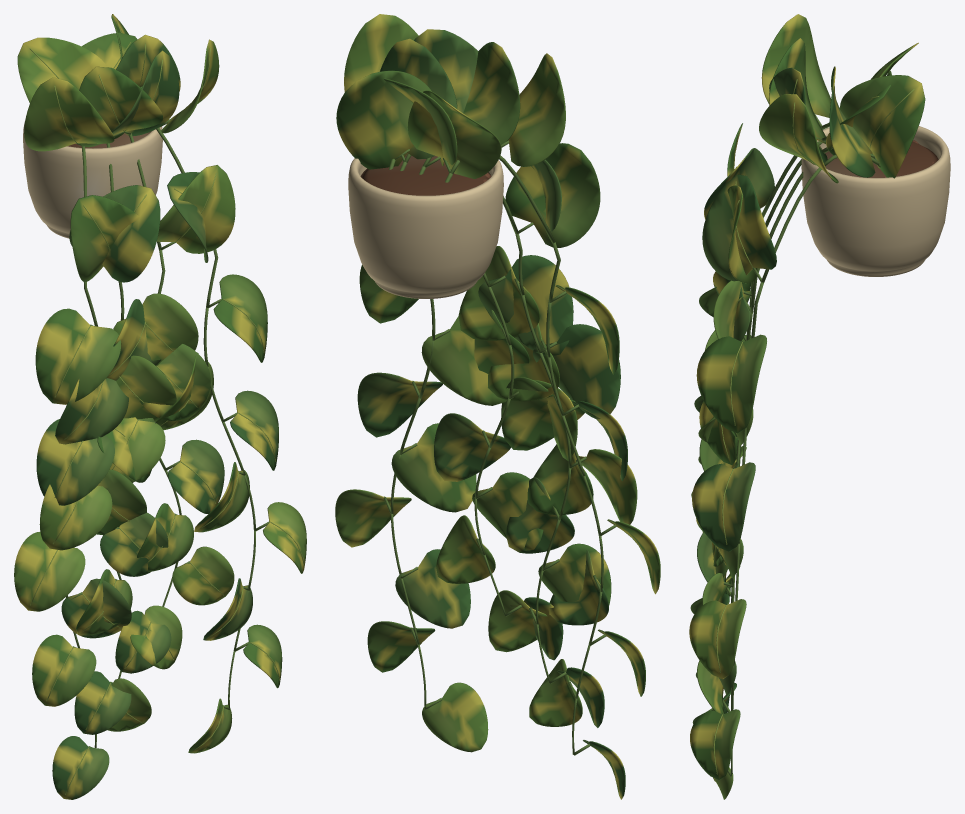
File: pothos.glb
The picture shows the model from 3 angles, left to right: view 1: azimuth 30°, elevation 25°; view 2: azimuth 150°, elevation 25°; view 3: azimuth 270°, elevation 25°; orthographic projection. The views are drawn at different scales.
Parts seen in each view (by area): view 1: pot, vine0_leaf03, vine0_leaf01, vine0_leaf05, vine2_leaf02, vine0_leaf07, vine0_leaf02, vine1_leaf02, vine0_leaf09, vine2_leaf01, vine1_leaf00, vine1_leaf06 (+32 smaller); view 2: pot, vine3_leaf00, vine1_leaf02, vine2_leaf03, vine0_leaf01, vine1_leaf04, vine1_leaf00, vine2_leaf01, vine3_leaf06, vine3_leaf04, vine3_leaf08, vine2_leaf06 (+31 smaller); view 3: pot, vine3_leaf00, vine3_leaf03, vine3_leaf02, vine3_leaf05, vine3_leaf07, vine3_leaf01, vine0_leaf01, vine3_leaf09, vine2_leaf00, vine0_leaf02, vine1_leaf03 (+11 smaller).
Part boxes in pixels (x1=…): pot: x1=23, y1=122, x2=162, y2=238; vine0_leaf03: x1=35, y1=308, x2=121, y2=404; vine0_leaf01: x1=24, y1=77, x2=114, y2=151; vine0_leaf05: x1=36, y1=419, x2=114, y2=505; vine2_leaf02: x1=156, y1=165, x2=235, y2=253; vine0_leaf07: x1=14, y1=532, x2=85, y2=611; vine0_leaf02: x1=69, y1=185, x2=160, y2=282; vine1_leaf02: x1=70, y1=195, x2=140, y2=281; vine0_leaf09: x1=32, y1=634, x2=96, y2=706; vine2_leaf01: x1=79, y1=66, x2=162, y2=147; vine1_leaf00: x1=17, y1=37, x2=106, y2=102; vine1_leaf06: x1=39, y1=484, x2=112, y2=550; pot: x1=348, y1=153, x2=503, y2=298; vine3_leaf00: x1=336, y1=70, x2=431, y2=169; vine1_leaf02: x1=505, y1=143, x2=600, y2=247; vine2_leaf03: x1=478, y1=255, x2=573, y2=355; vine0_leaf01: x1=501, y1=53, x2=565, y2=166; vine1_leaf04: x1=532, y1=324, x2=620, y2=419; vine1_leaf00: x1=407, y1=90, x2=501, y2=178; vine2_leaf01: x1=463, y1=42, x2=520, y2=144; vine3_leaf06: x1=391, y1=423, x2=476, y2=512; vine3_leaf04: x1=421, y1=316, x2=506, y2=405; vine3_leaf08: x1=395, y1=549, x2=470, y2=628; vine2_leaf06: x1=434, y1=413, x2=510, y2=481; pot: x1=801, y1=126, x2=950, y2=276; vine3_leaf00: x1=840, y1=75, x2=925, y2=178; vine3_leaf03: x1=696, y1=334, x2=766, y2=433; vine3_leaf02: x1=702, y1=174, x2=776, y2=281; vine3_leaf05: x1=692, y1=462, x2=755, y2=551; vine3_leaf07: x1=689, y1=599, x2=746, y2=678; vine3_leaf01: x1=759, y1=94, x2=838, y2=183; vine0_leaf01: x1=761, y1=14, x2=830, y2=126; vine3_leaf09: x1=690, y1=709, x2=740, y2=780; vine2_leaf00: x1=829, y1=66, x2=875, y2=177; vine0_leaf02: x1=704, y1=148, x2=774, y2=219; vine1_leaf03: x1=713, y1=280, x2=751, y2=339.
Bounding box in the file's own units: 0.3616 × 0.817 × 0.2627.
